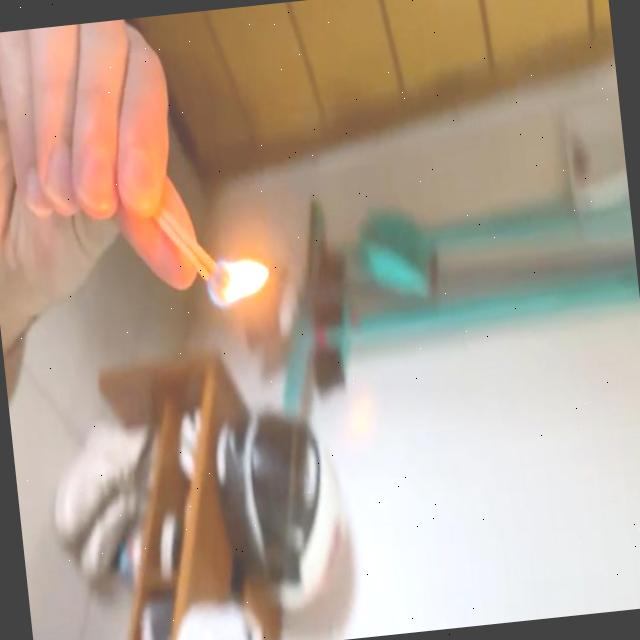fire: (202, 253, 274, 308)
